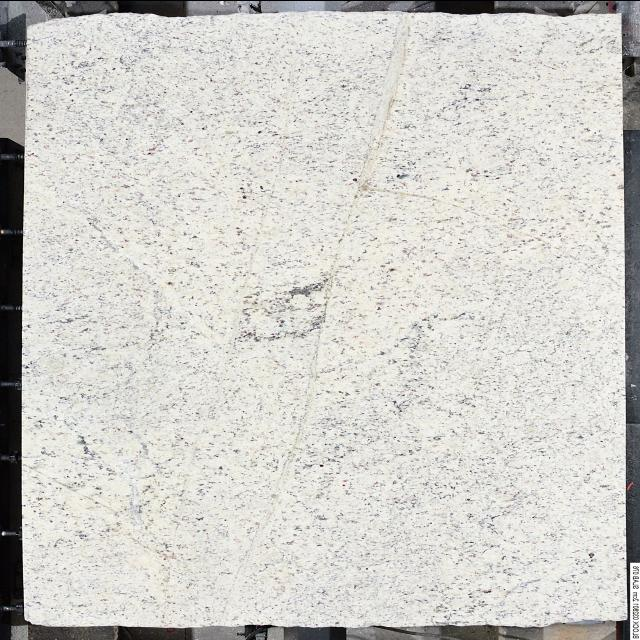chapa: (22, 11, 625, 626)
furo: (25, 11, 120, 35)
